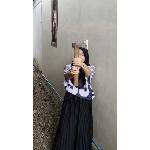Kapak: (69, 38, 93, 86)
